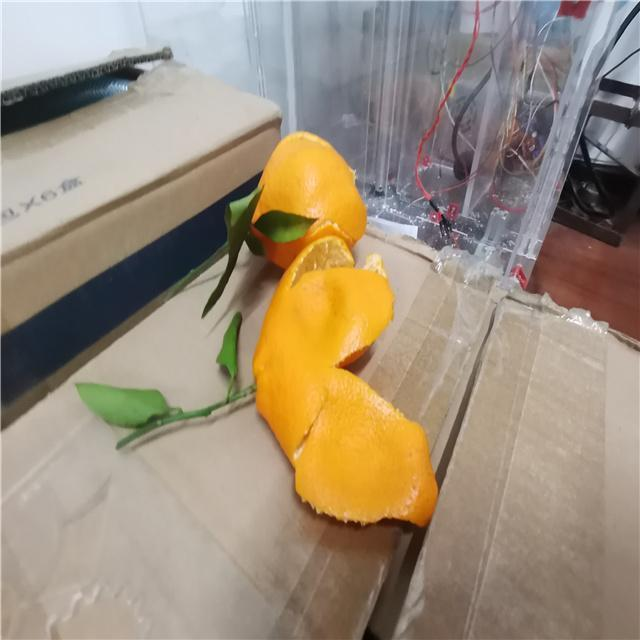orange peel: (254, 250, 439, 530), (246, 130, 368, 264)
